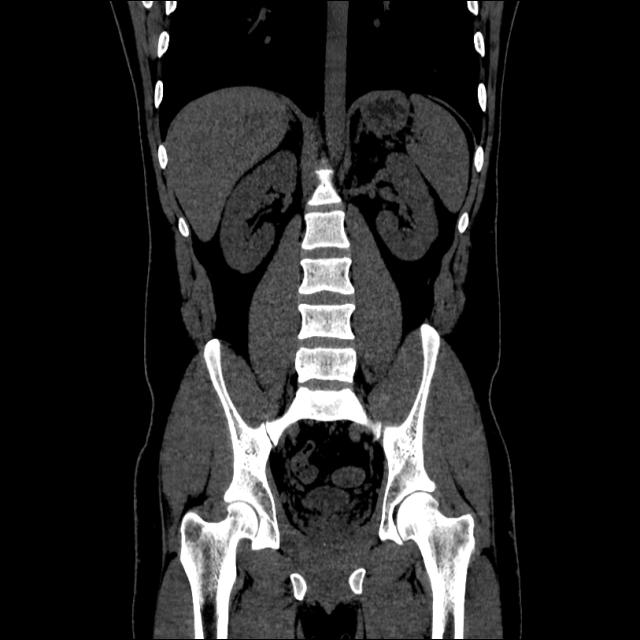kidney: (223, 155, 292, 270), (377, 151, 437, 254)
